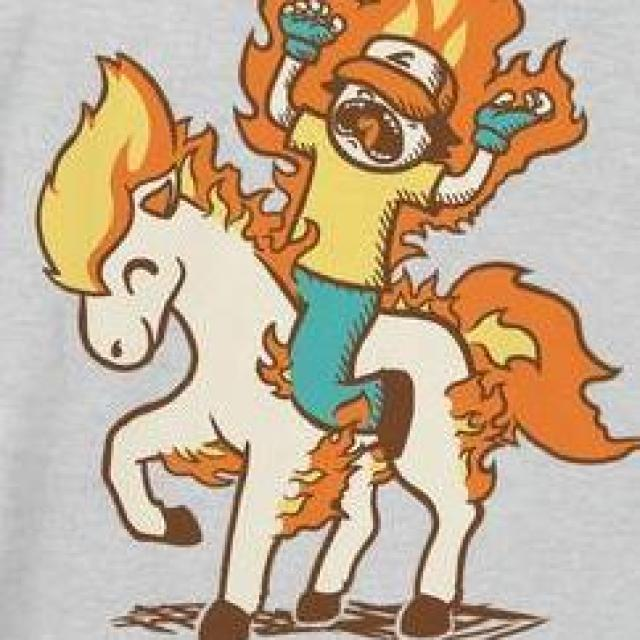Ponyta: (38, 138, 484, 638)
